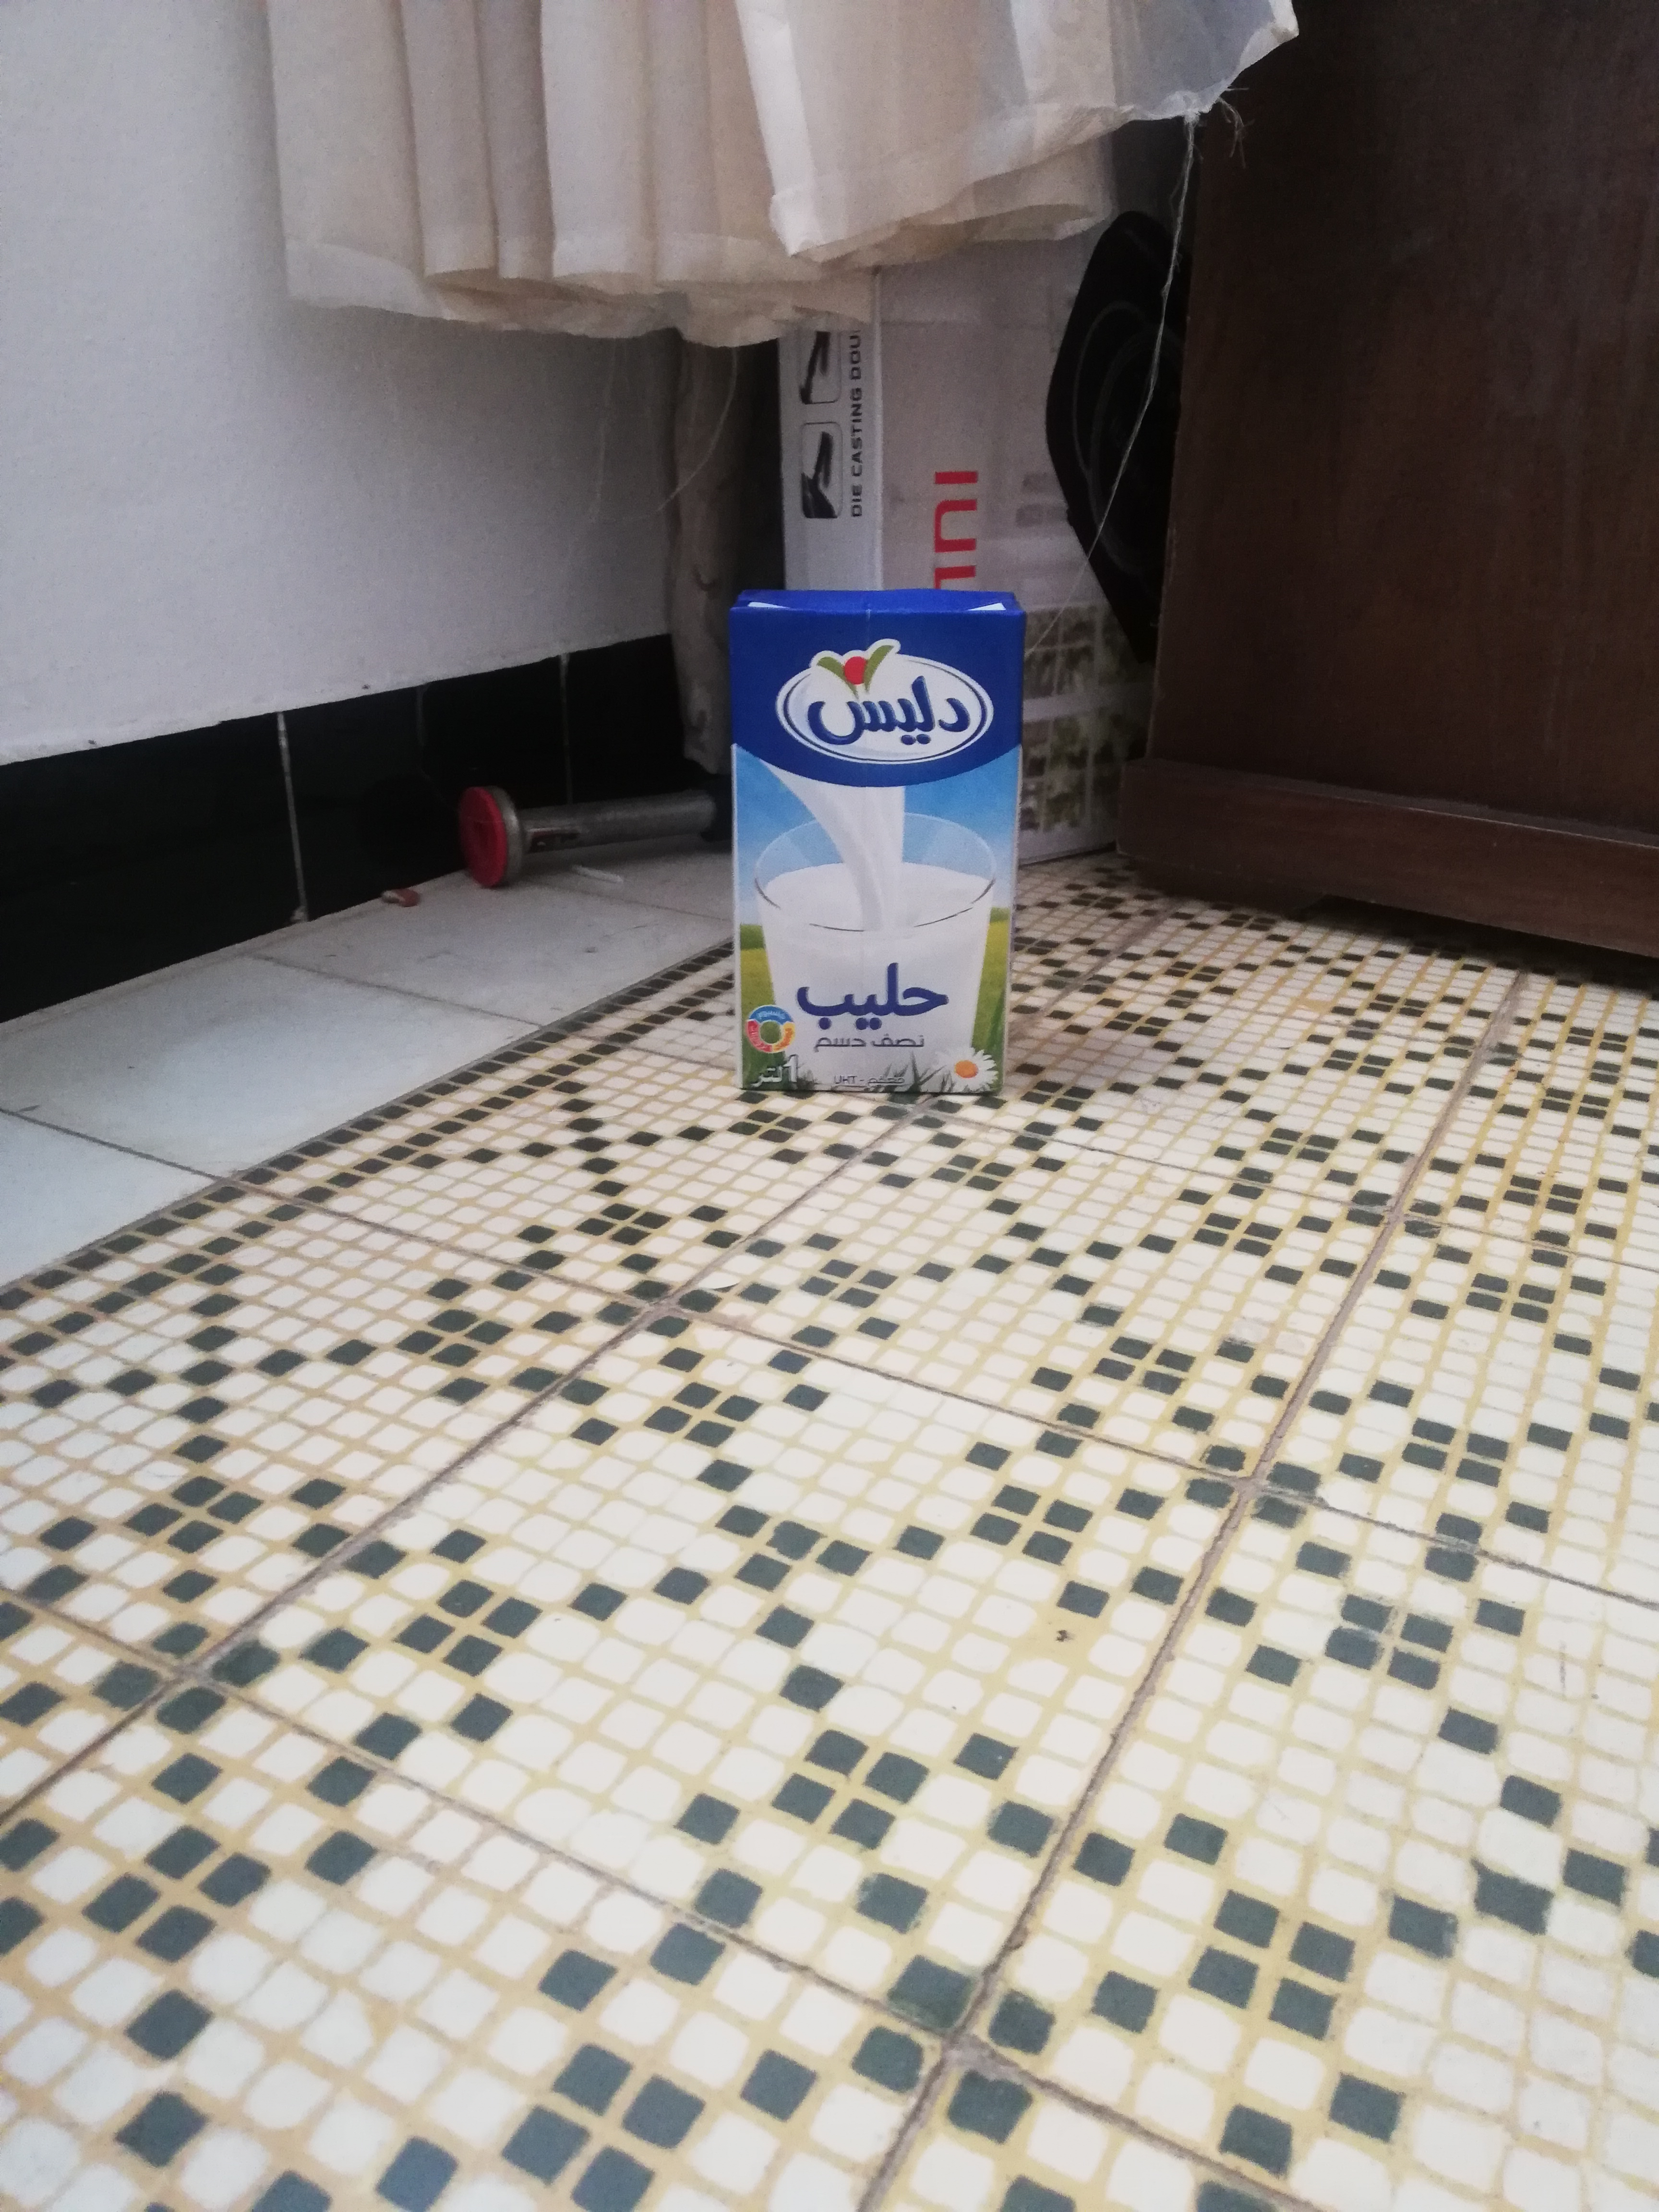Lait delice: (723, 589, 1028, 1103)
